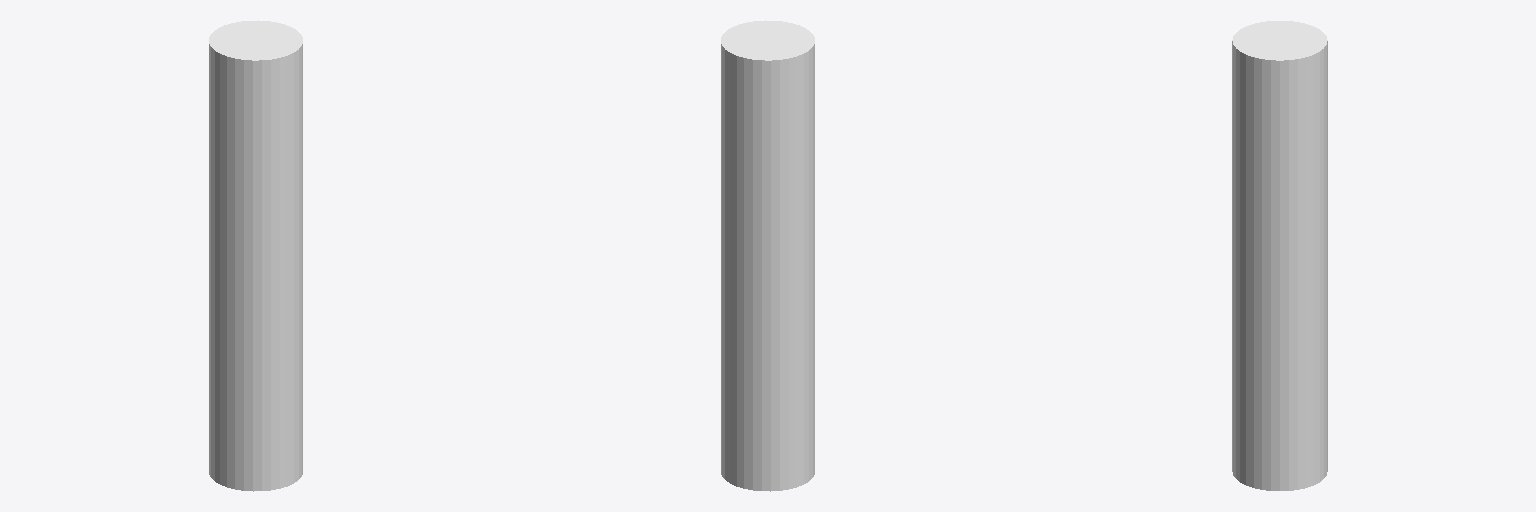
robot.urdf — cylinder2:
<?xml version="1.0"?>
<robot name="cylinder2">
<link name="base_link">
<inertial>
<origin xyz="0 0 0" rpy="0 0 0"/>
<mass value="1"/>
<inertia ixx="0.000683333" ixy="0" ixz="0" iyy="0.000683333" iyz="0" izz="0.000683333"/>
</inertial>
    <visual>
    <geometry>
    <cylinder length="0.05" radius="0.005"/>
    </geometry>
	<material>
	<color rgba="1 1 1 1" />
	</material>
    </visual>
<collision>
            <origin xyz="0 0 0" rpy="0 0 0" />
            <geometry>
    <cylinder length="0.05" radius="0.005"/>
            </geometry>
        </collision>
</link>
</robot>

--- What the picture shows (computed from the rendered views, not written in the file) ---
The picture shows the robot from 3 angles, left to right: view 1: azimuth 30°, elevation 25°; view 2: azimuth 150°, elevation 25°; view 3: azimuth 270°, elevation 25°; orthographic projection.
Model cylinder2 with 1 links and 0 joints (none), rooted at base_link, posed every joint at zero.
Links seen in each view (by area): view 1: base_link; view 2: base_link; view 3: base_link.
Link boxes in pixels (box(x1,y1,x2,y2)): base_link: box(209, 20, 302, 491); base_link: box(721, 20, 814, 491); base_link: box(1232, 21, 1327, 490).
Bounding box of the posed robot: 0.01 × 0.01 × 0.05 m (x, y, z).
Geometry: primitives only (box / cylinder / sphere), no mesh files.
